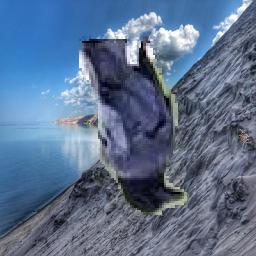Crow: (80, 36, 189, 216)
Sparrow: (235, 129, 250, 143)
